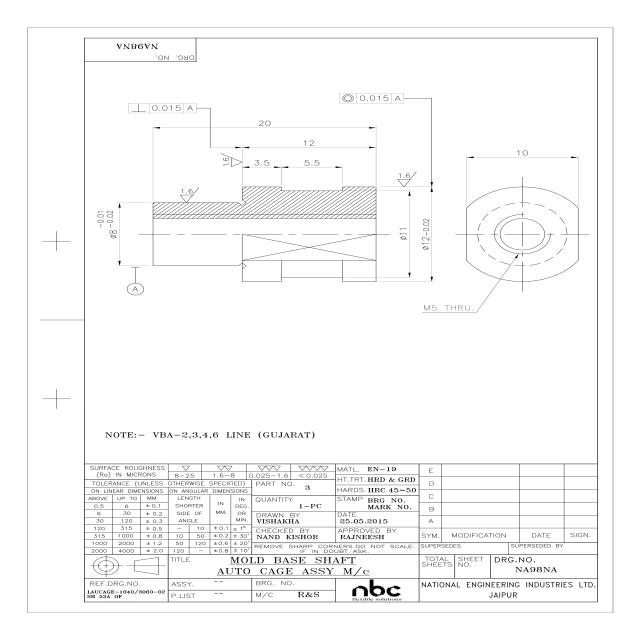dimension: (96, 209, 118, 240), (421, 304, 475, 312), (419, 218, 431, 250), (395, 227, 409, 241), (256, 118, 274, 127), (302, 158, 322, 166), (300, 139, 318, 147), (253, 158, 271, 166), (514, 148, 530, 156)
